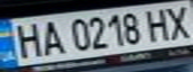0: (63, 16, 90, 52)
1: (106, 11, 127, 47)
2: (84, 13, 112, 51)
8: (121, 9, 145, 45)
A: (33, 18, 66, 56)
H: (6, 20, 45, 60), (142, 6, 175, 43)
X: (160, 2, 193, 40)
